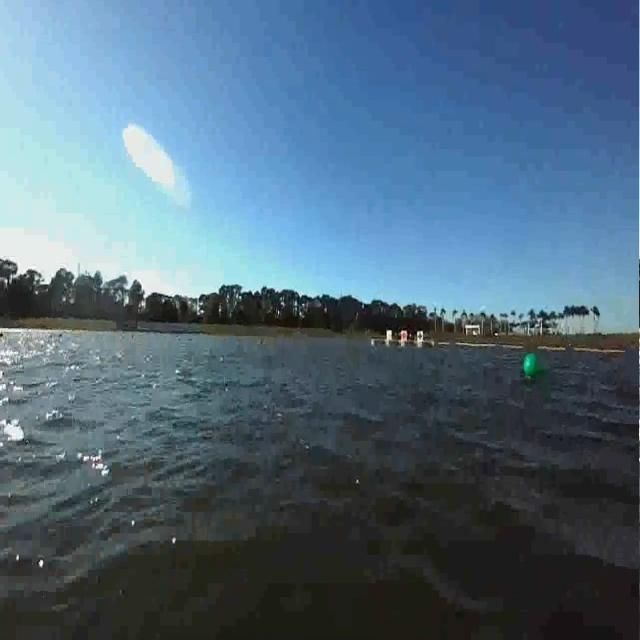green-buoy: (523, 352, 547, 378)
